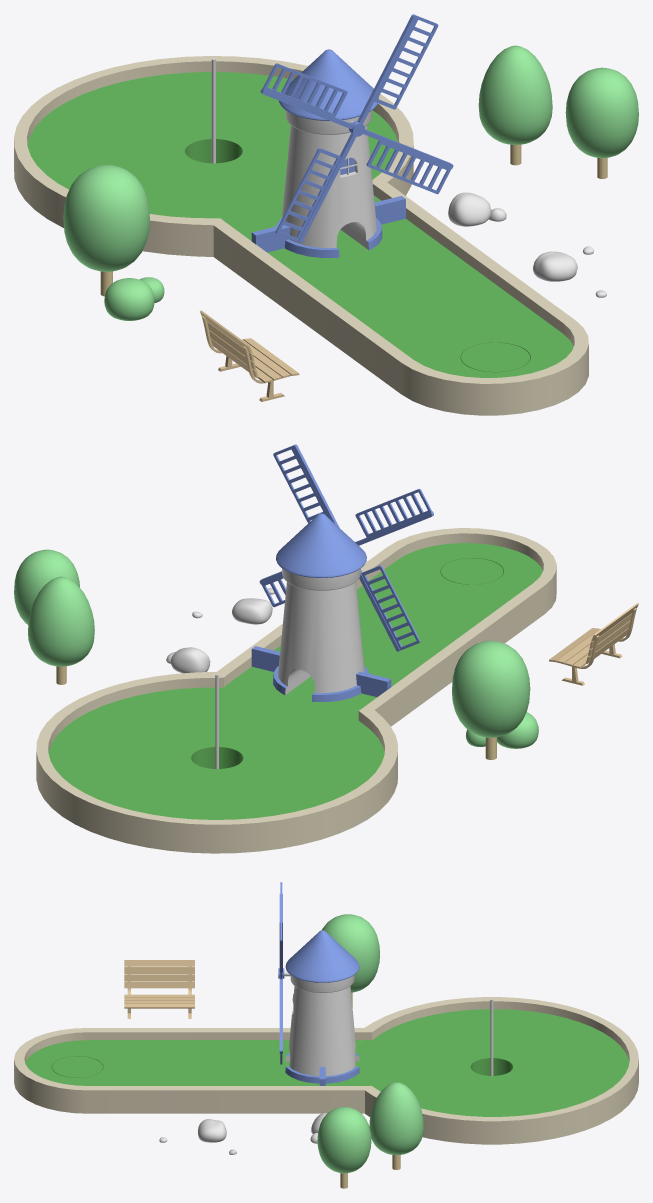
File: Windmill04.glb
3 renders of one model, top to bottom at view 1: azimuth 30°, elevation 25°; view 2: azimuth 150°, elevation 25°; view 3: azimuth 270°, elevation 25°, orthographic. The views are drawn at different scales.
Parts seen in each view (by area): view 1: Start, Goal, Tree, Windmill, Fan, Bench, Rock, Bush, Flip, Wall; view 2: Goal, Start, Tree, Windmill, Fan, Bench, Rock, Flip, Wall, Bush; view 3: Goal, Start, Windmill, Tree, Bench, Rock, Flip, Fan.
Part boxes in pixels (x1,y1,x2,y2): Start: [213, 182, 588, 415]; Goal: [14, 56, 413, 256]; Tree: [63, 45, 638, 296]; Windmill: [276, 49, 382, 257]; Fan: [260, 14, 453, 243]; Bench: [200, 310, 299, 401]; Rock: [448, 192, 606, 297]; Bush: [104, 277, 164, 320]; Flip: [461, 342, 529, 372]; Wall: [251, 196, 405, 252]; Goal: [36, 672, 397, 853]; Start: [217, 528, 556, 726]; Tree: [14, 549, 530, 759]; Windmill: [273, 513, 368, 701]; Fan: [259, 444, 433, 651]; Bench: [549, 603, 638, 685]; Rock: [166, 588, 274, 673]; Flip: [441, 558, 503, 584]; Wall: [251, 646, 391, 697]; Bush: [466, 712, 538, 748]; Goal: [348, 997, 638, 1144]; Start: [14, 1028, 365, 1113]; Windmill: [285, 930, 359, 1083]; Tree: [317, 914, 423, 1188]; Bench: [124, 960, 194, 1018]; Rock: [159, 1113, 327, 1154]; Flip: [52, 1056, 102, 1077]; Fan: [278, 882, 284, 1064].
Size of the model in its own units: 5.56 by 2.46 by 7.27.
